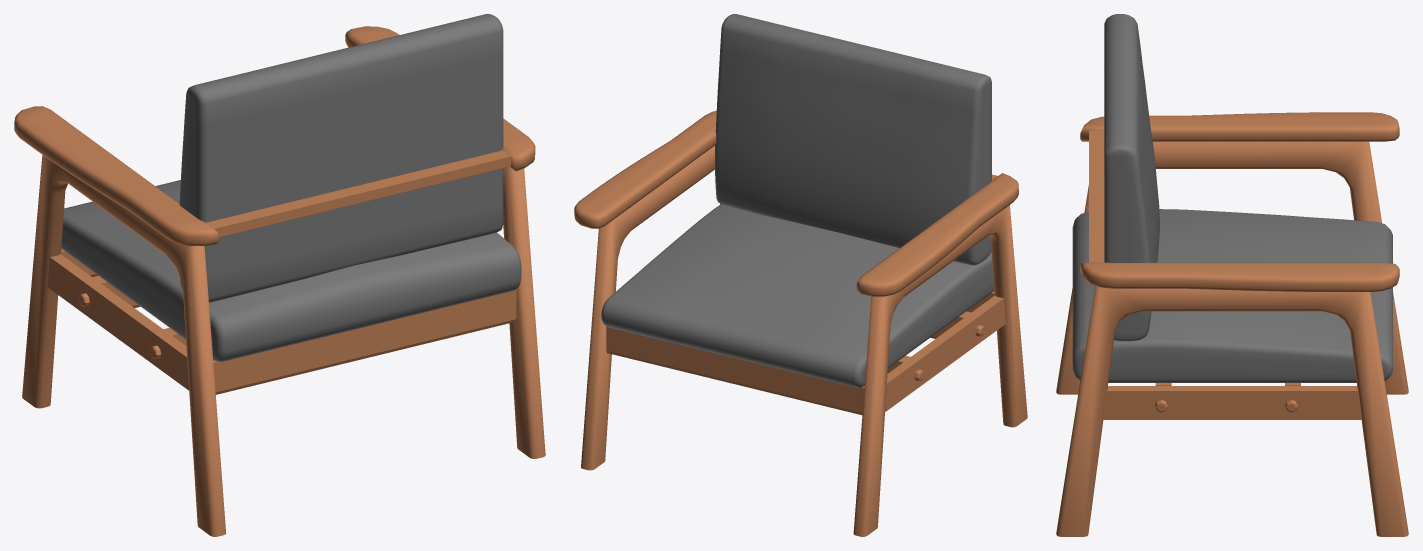
Rendered from Chair_Single_02.glb.
3 renders of one model, left to right at view 1: azimuth 30°, elevation 25°; view 2: azimuth 150°, elevation 25°; view 3: azimuth 270°, elevation 25°, orthographic. The views are drawn at different scales.
Parts seen in each view (by area): view 1: Mesh_Chair_Single_02; view 2: Mesh_Chair_Single_02; view 3: Mesh_Chair_Single_02.
Boxes of the visible parts, left/top/right/bottom form: Mesh_Chair_Single_02: left=14, top=14, right=545, bottom=536; Mesh_Chair_Single_02: left=574, top=14, right=1027, bottom=536; Mesh_Chair_Single_02: left=1056, top=14, right=1408, bottom=536.
Size of the model in its own units: 0.6241 by 0.6595 by 0.5501.
1 material, 1 textured.
